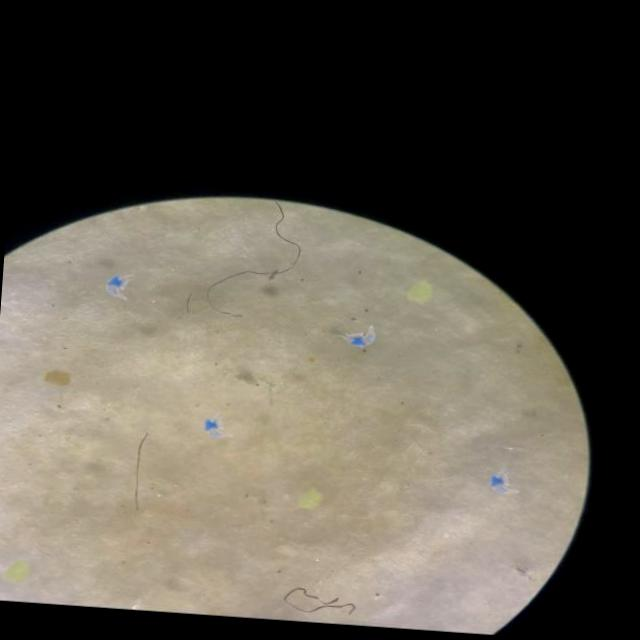fiber: (212, 202, 301, 285), (285, 586, 356, 613), (133, 433, 148, 507)
film: (353, 325, 375, 348), (107, 274, 125, 293), (489, 474, 508, 492), (205, 419, 221, 436)
fragment: (408, 280, 433, 302), (299, 489, 322, 508), (6, 560, 28, 579), (44, 370, 70, 385)
